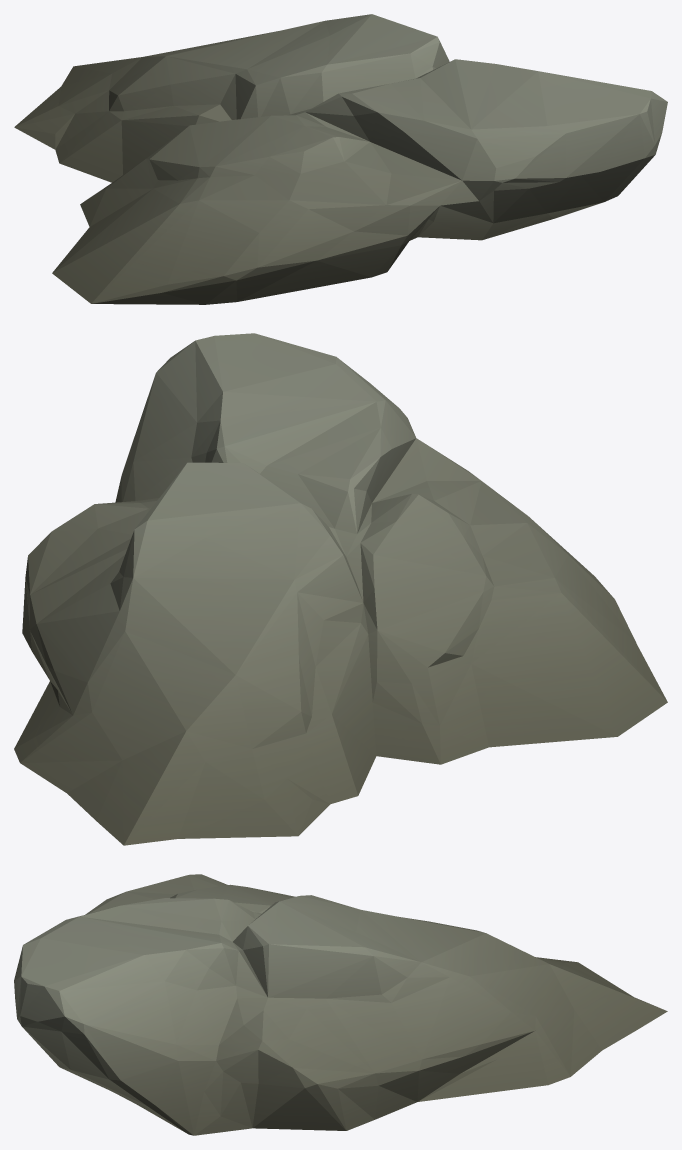
Rendered from ZLP_Rock_E_9.FBX.
3 renders of one model, top to bottom at view 1: azimuth 30°, elevation 25°; view 2: azimuth 150°, elevation 25°; view 3: azimuth 270°, elevation 25°, orthographic. The views are drawn at different scales.
Visible parts, largest first — view 1: ZLP_Rock_E_9; view 2: ZLP_Rock_E_9; view 3: ZLP_Rock_E_9.
Boxes of the visible parts, x1=… form: ZLP_Rock_E_9: x1=14, y1=14, x2=667, y2=304; ZLP_Rock_E_9: x1=14, y1=333, x2=667, y2=845; ZLP_Rock_E_9: x1=14, y1=874, x2=667, y2=1135.
Bounding box in the file's own units: 326 × 92.13 × 379.
